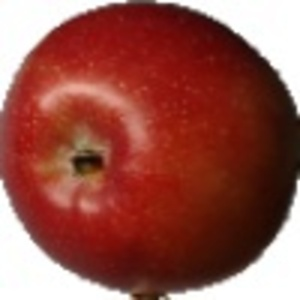maçã braeburn: (3, 4, 298, 295)
